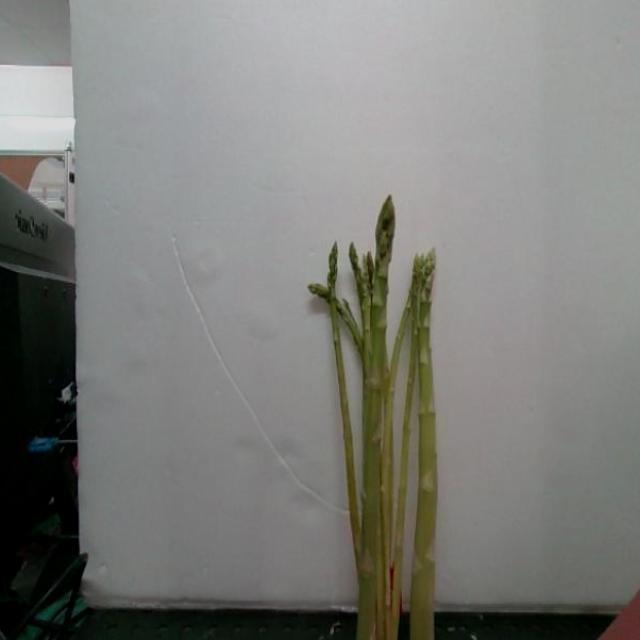aspargus: (355, 194, 395, 640)
